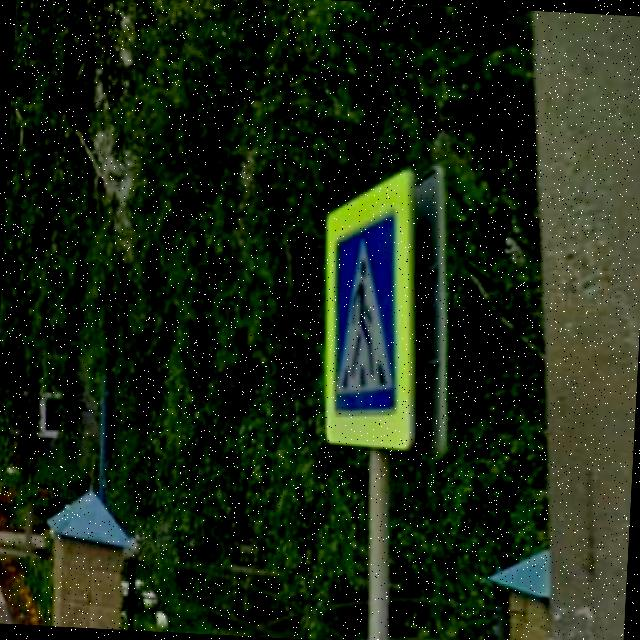Przejscie dla pieszych: (312, 164, 428, 455)
